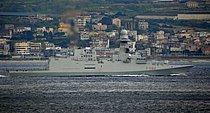MIL_Ship: (5, 29, 194, 79)
